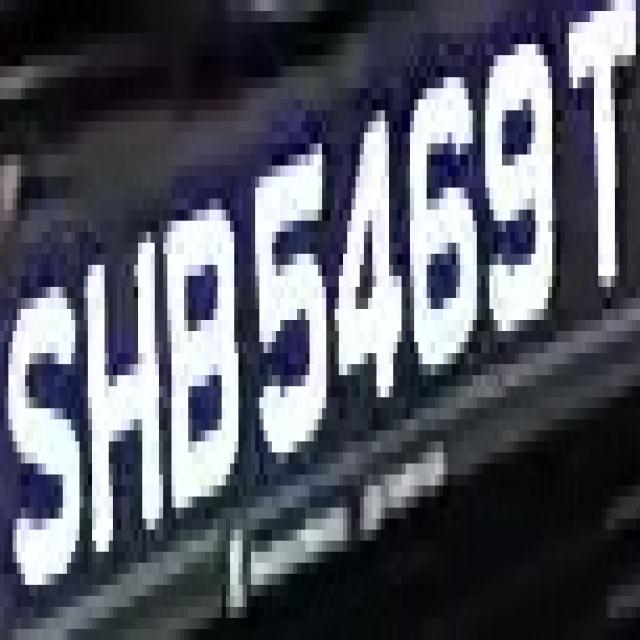4: (334, 66, 402, 442)
5: (242, 132, 334, 464)
6: (393, 55, 494, 397)
9: (473, 22, 556, 353)
B: (150, 154, 242, 552)
H: (80, 210, 168, 596)
S: (12, 265, 88, 607)
T: (552, 0, 640, 320)
